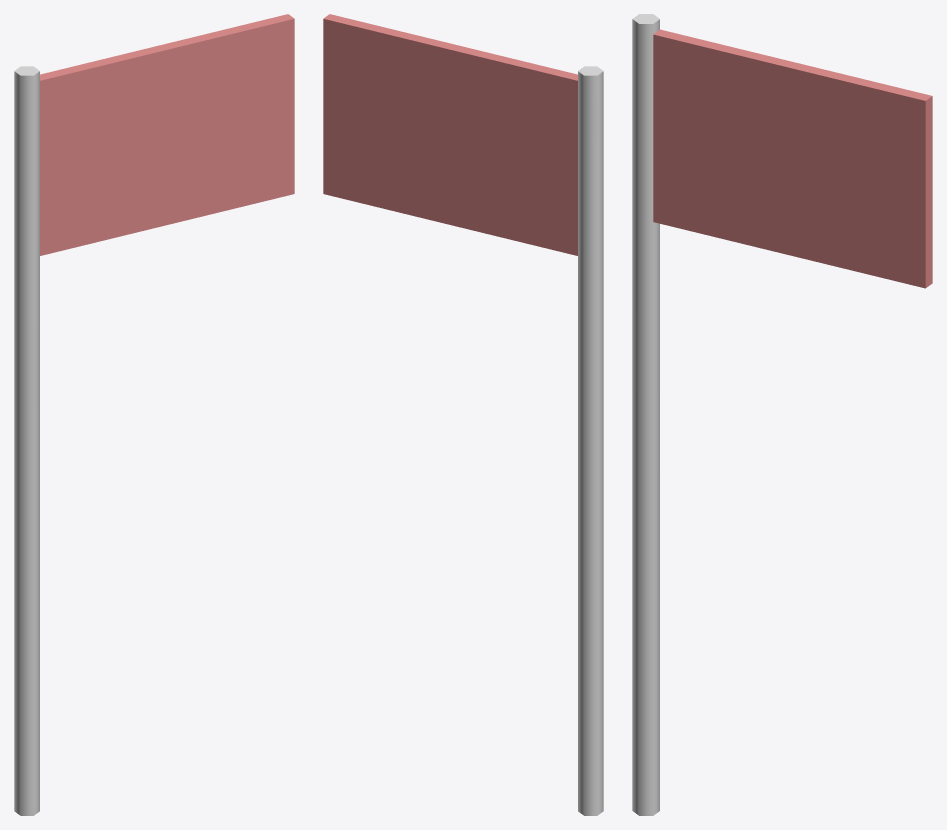
File: corner_flag.glb
3 views of the same model, side by side, from view 1: azimuth 30°, elevation 25°; view 2: azimuth 150°, elevation 25°; view 3: azimuth 330°, elevation 25° (orthographic). The views are drawn at different scales.
Parts seen in each view (by area): view 1: corner_flag; view 2: corner_flag; view 3: corner_flag.
Boxes of the visible parts, <box> form: corner_flag: <box>14,14,294,815</box>; corner_flag: <box>323,14,603,815</box>; corner_flag: <box>632,14,932,815</box>.
Bounding box in the file's own units: 0.736 × 1.9 × 0.06.
